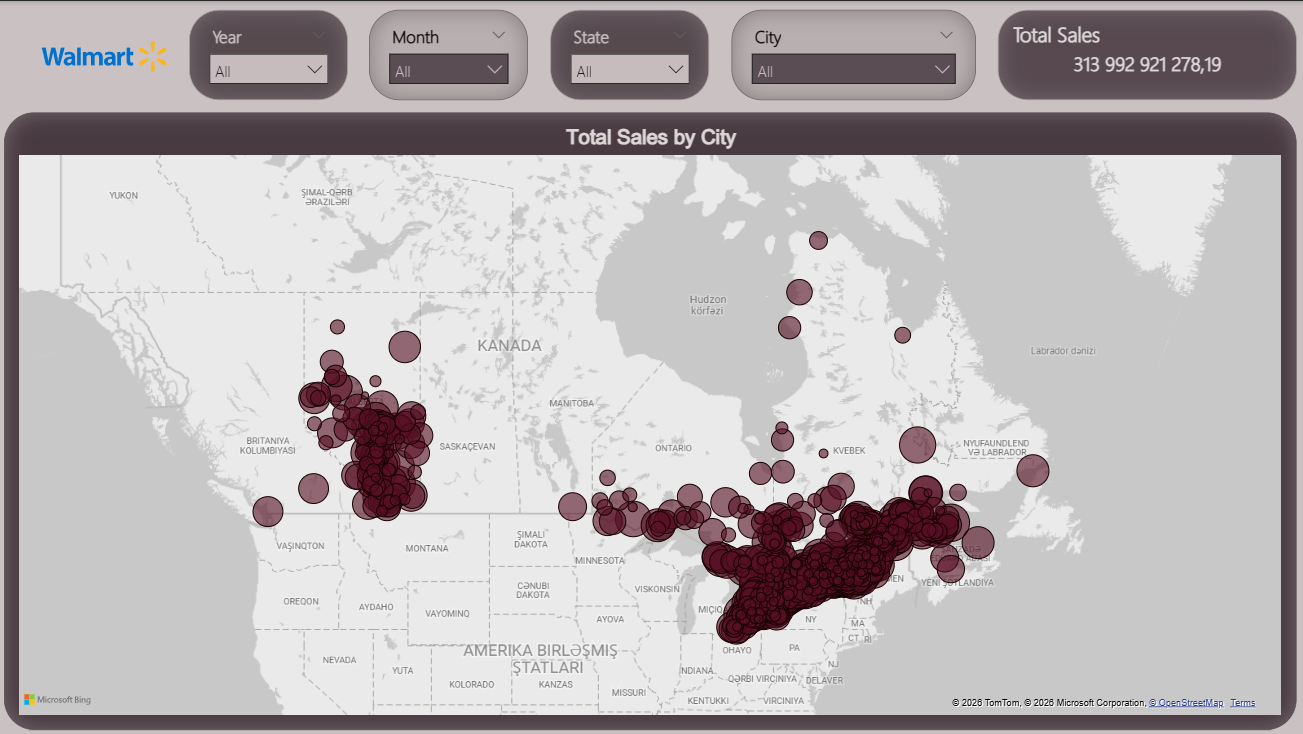

What the dashboard file says about the page in this screenshot:
{"tool":"powerbi","page":{"name":"Map","canvas":[1280,720],"ordinal":0},"visuals":[{"type":"slicer","fields":{"Values":["Date.Year"]},"box":[186.2,8.8,156.2,88.8],"z":0},{"type":"slicer","fields":{"Values":["Date.Month"]},"box":[363.8,8.8,156.2,88.8],"z":1000},{"type":"slicer","fields":{"Values":["Walmart_City.Province"]},"box":[541.2,8.8,156.2,88.8],"z":2000},{"type":"map","title":"Total Sales by City","fields":{"Category":["Walmart_City.City"],"Y":["Avg(Walmart_City.lat)"],"X":["Avg(Walmart_City.lng)"],"Size":["_Measures.Total Sales"]},"box":[4.9,109.2,1268.7,606],"z":3000},{"type":"slicer","fields":{"Values":["Walmart_City.City"]},"box":[718.8,8.8,240,88.8],"z":4000},{"type":"card","title":"Total Sales","fields":{"Values":["_Measures.Total Sales"]},"box":[980,8.8,293.8,88.8],"z":5000},{"type":"image","box":[0,0,208.8,108.8],"z":6000}]}

Visuals, with their boxes in screenshot pixels (x1, y1, x2, y2), scaled from the page's 1280x720 canvas onto the 1303x734 screenshot:
slicer - Date.Year: (x1=190, y1=9, x2=349, y2=99)
slicer - Date.Month: (x1=370, y1=9, x2=529, y2=99)
slicer - Walmart_City.Province: (x1=551, y1=9, x2=710, y2=99)
"Total Sales by City" map: (x1=5, y1=111, x2=1296, y2=729)
slicer - Walmart_City.City: (x1=732, y1=9, x2=976, y2=99)
"Total Sales" card: (x1=998, y1=9, x2=1297, y2=99)
image: (x1=0, y1=0, x2=213, y2=111)
